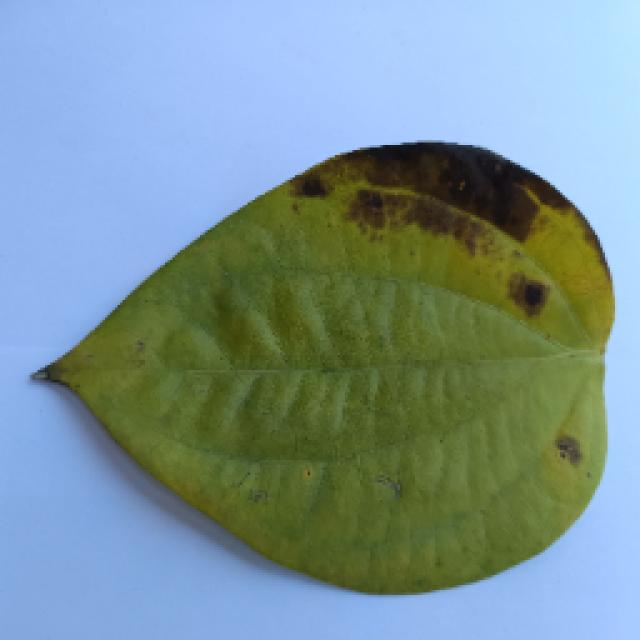slow-decline: (10, 148, 610, 610)
